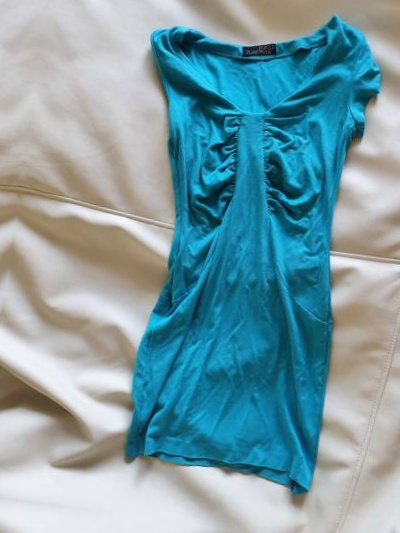Dress: (58, 0, 400, 517), (132, 0, 400, 1)
